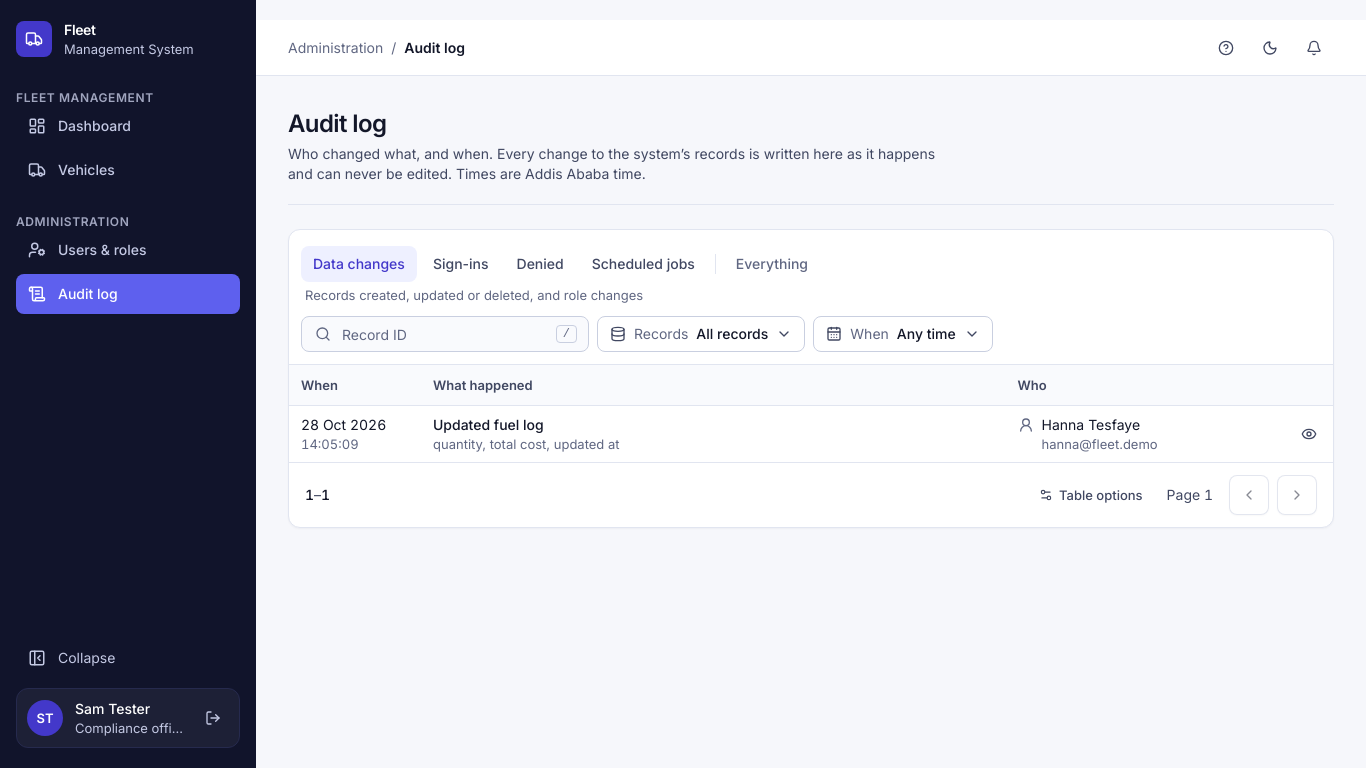
Test: Audit log (S-10) › opens an entry: only the changed fields, fuel in litres and money in ETB, before and after
Click the text "Updated fuel log".
click(488, 424)  # box [433, 414, 544, 434]
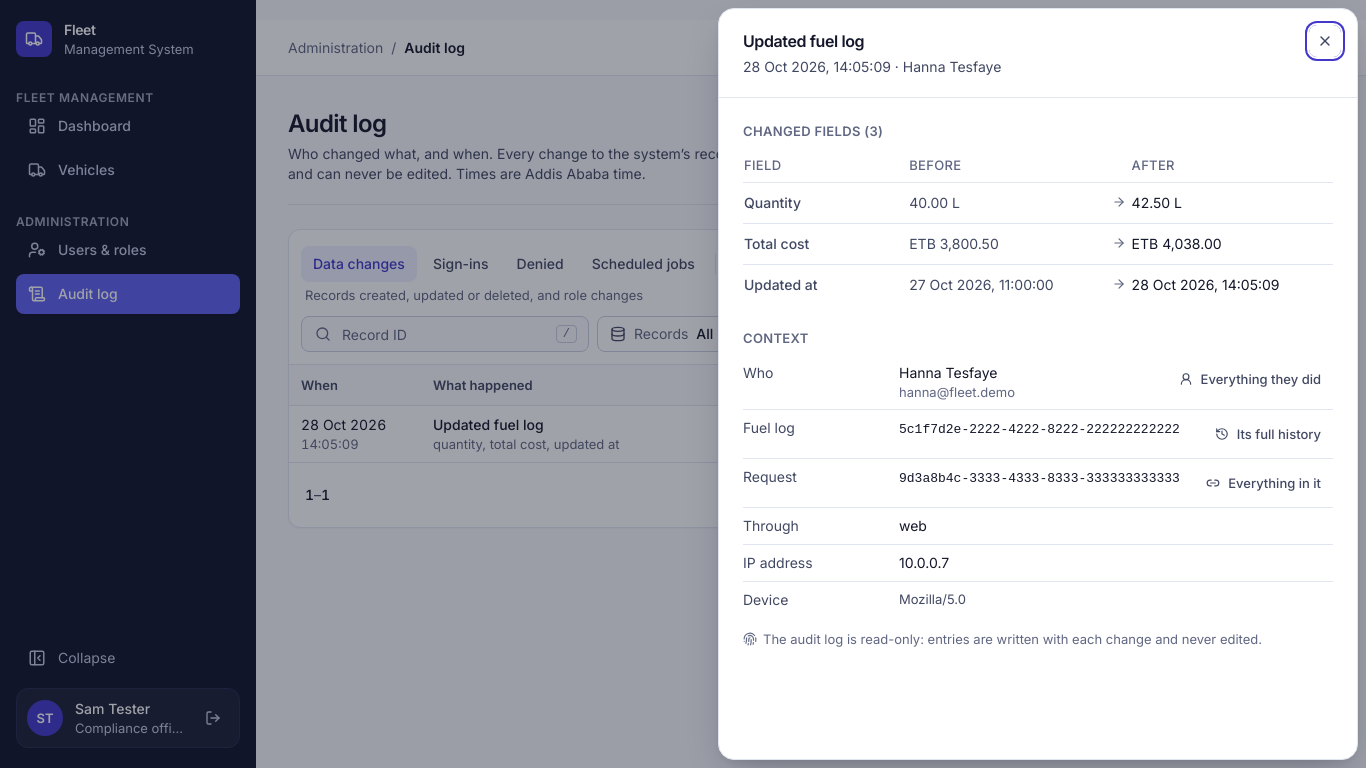
Expected: the text "40.00 L" is shown, [909, 194, 960, 211]
Expected: the text "42.50 L" is shown, [1132, 194, 1182, 211]
Expected: the text "ETB 3,800.50" is shown, [909, 235, 999, 252]
